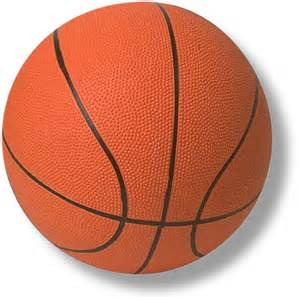basketball: (1, 2, 274, 277)
